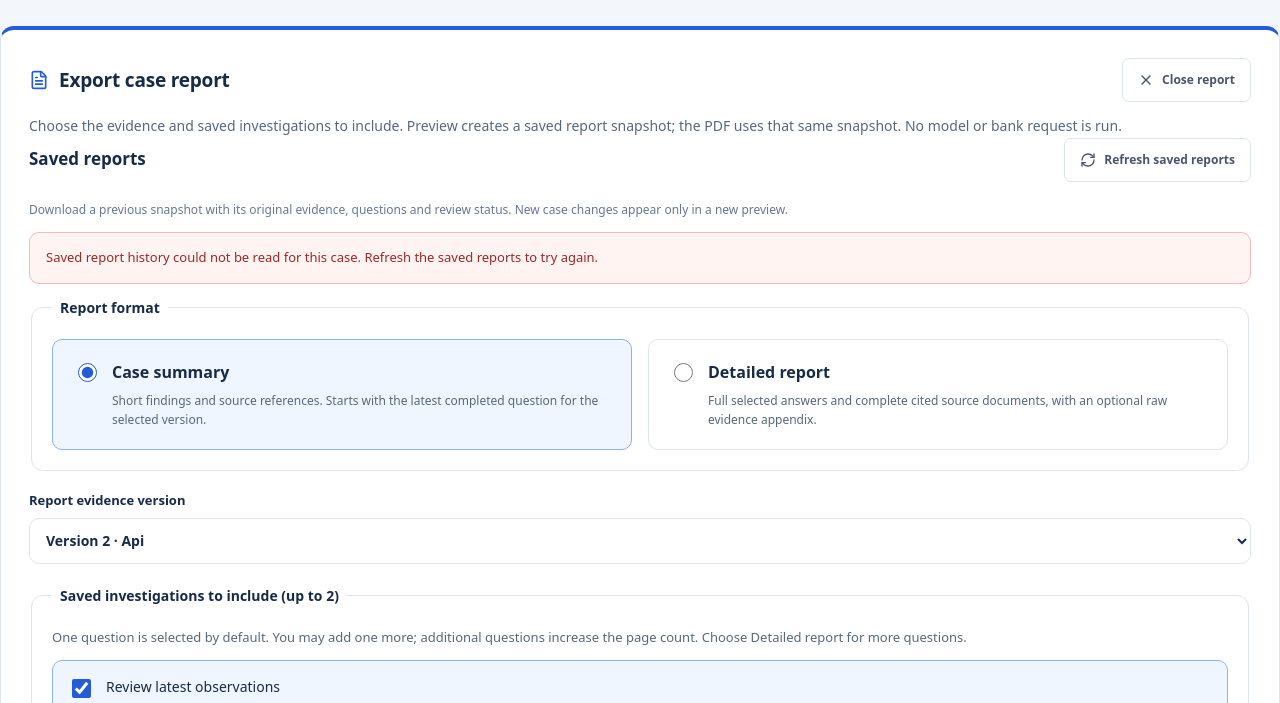
Scenario: frozen payment case reports › rejects mismatched history without exposing it and can retry without blocking a new report
The width and height of the screenshot is (1280, 703).
Expected: the dropdown labelled "Report evidence version" is shown, left=29, top=518, right=1251, bottom=564
Expected: the text "Saved report history could not be read" is shown, left=46, top=248, right=598, bottom=266
Click the button "Refresh saved reports" at (1158, 160), box left=1064, top=138, right=1251, bottom=182
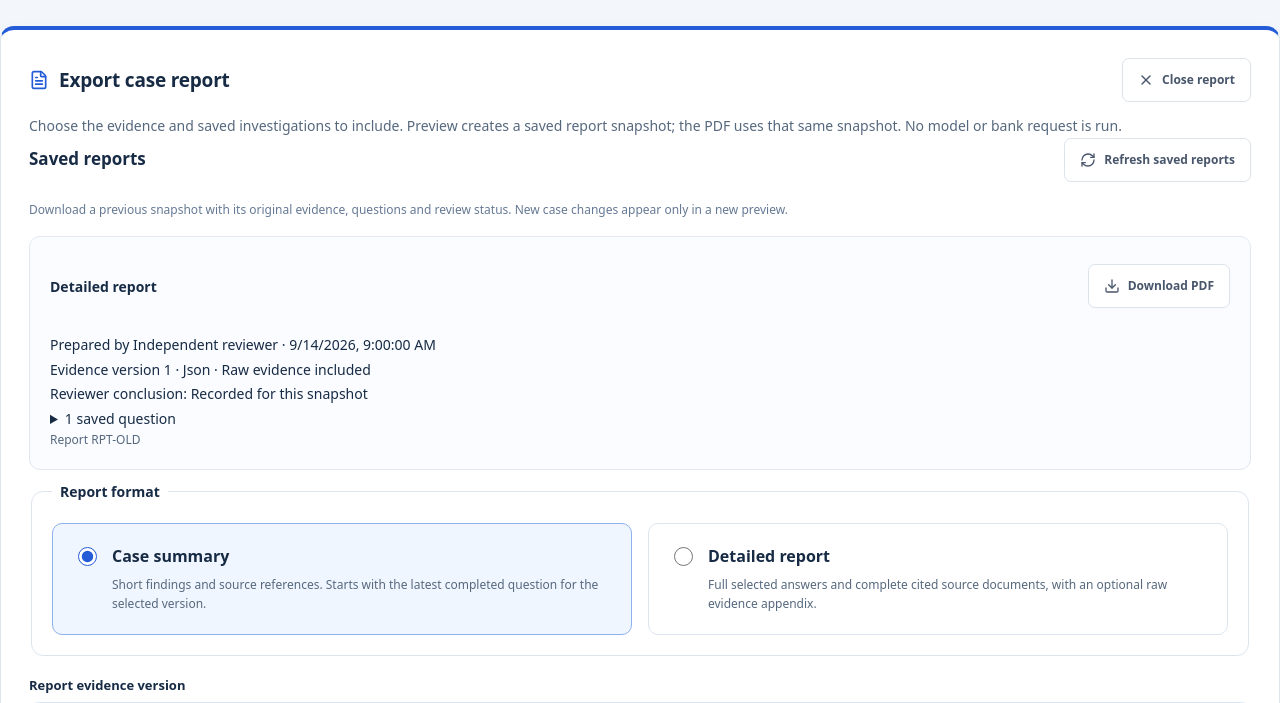
Expected: the element named "Saved report RPT-OLD" is shown, left=29, top=236, right=1251, bottom=470
